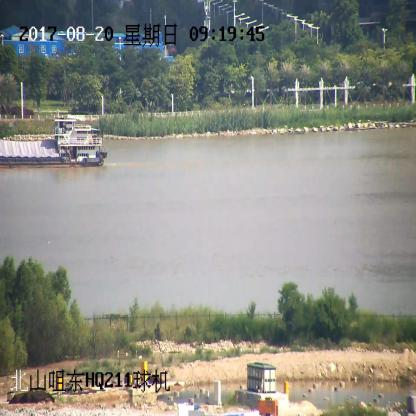Bulk Carrier: (0, 114, 106, 168)
